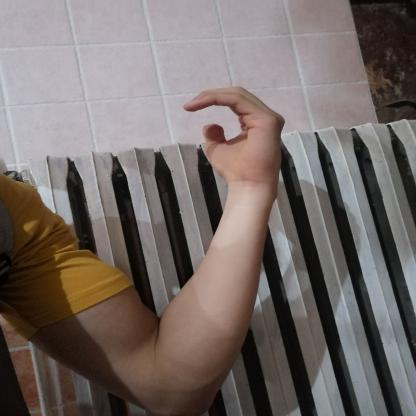JEEM: (167, 77, 297, 193)
